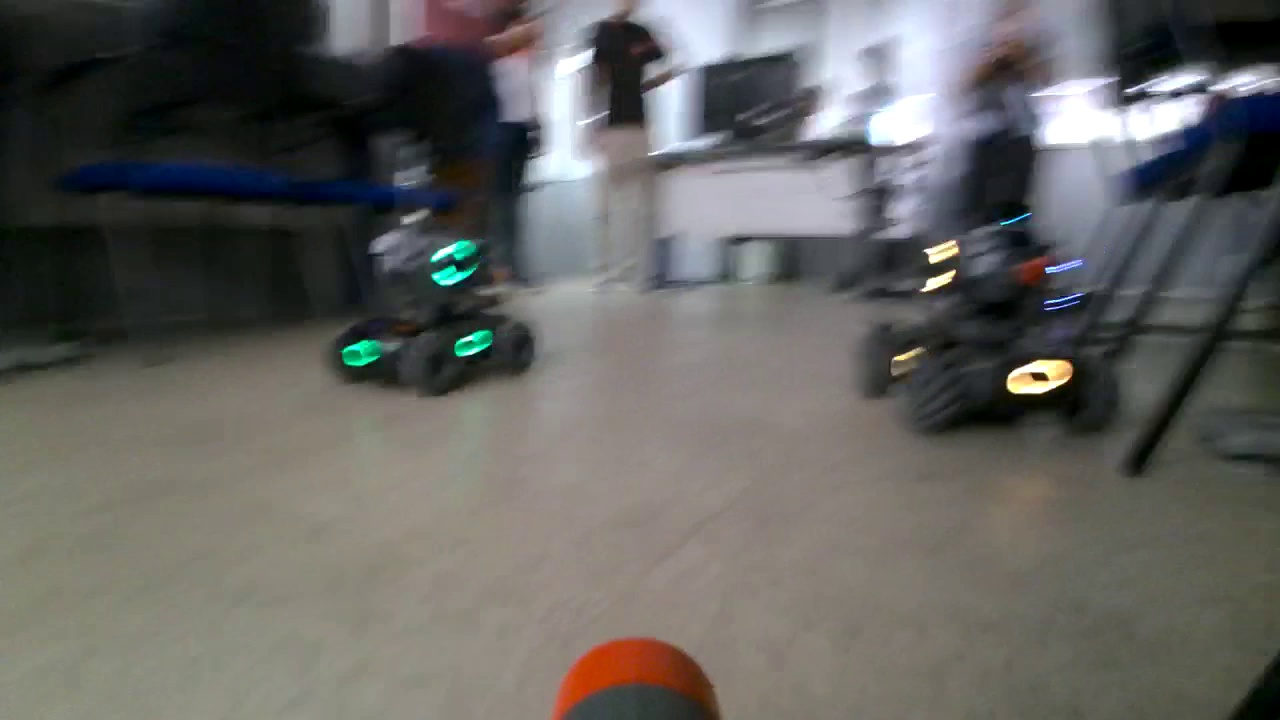robot: (860, 211, 1122, 433), (326, 211, 535, 396)
